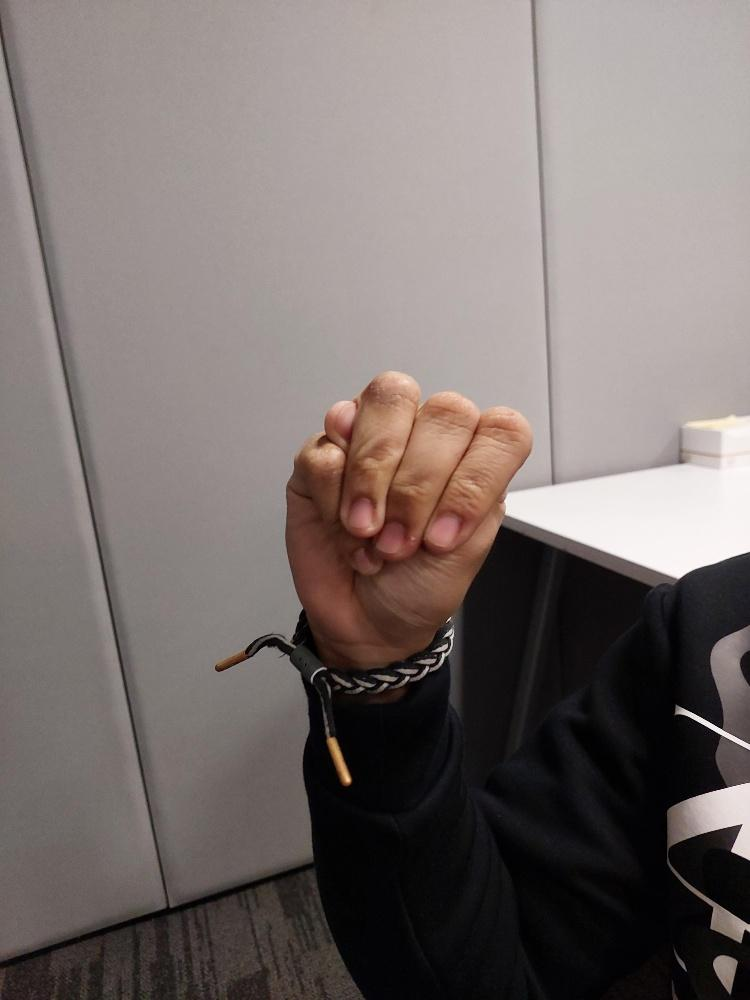m: (281, 368, 533, 687)
